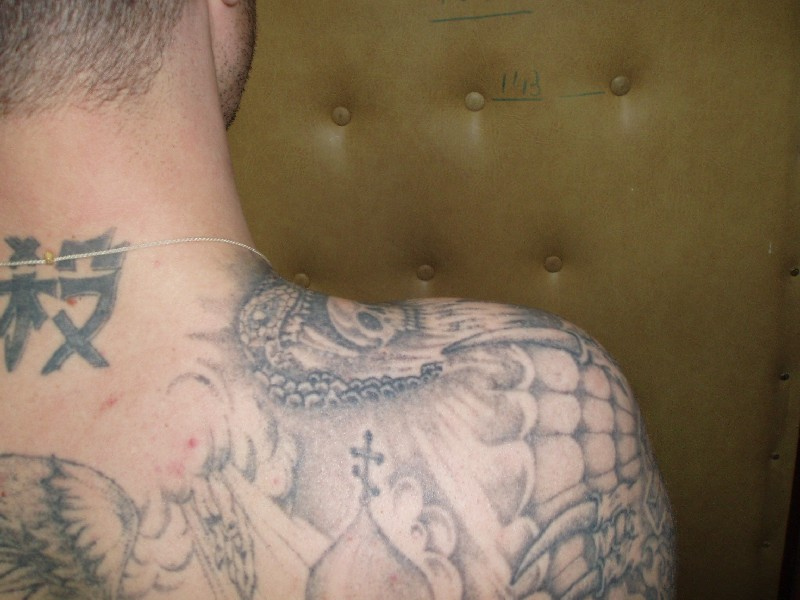tatu3_bukva: (1, 221, 136, 399)
tatu9_krest: (330, 411, 421, 530)
